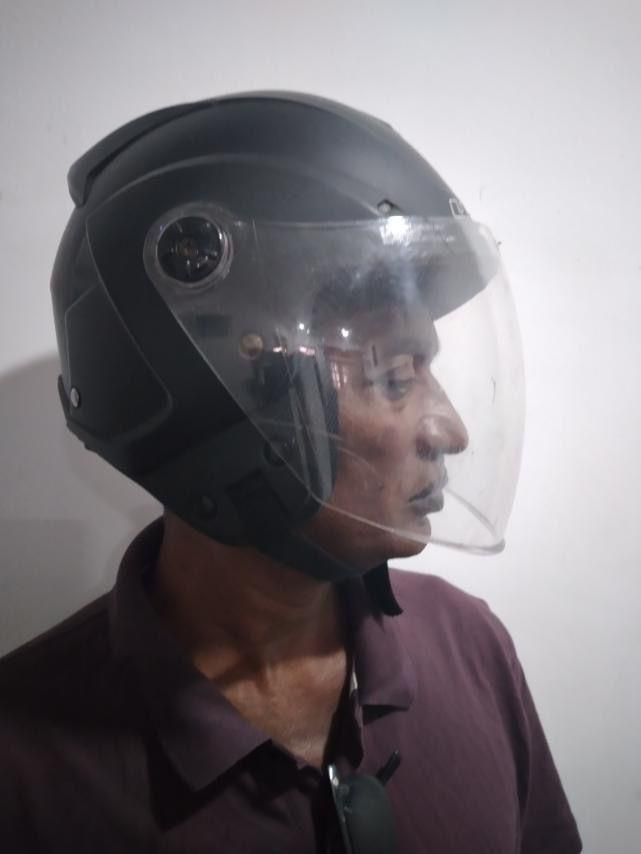helmet: (47, 86, 521, 568)
